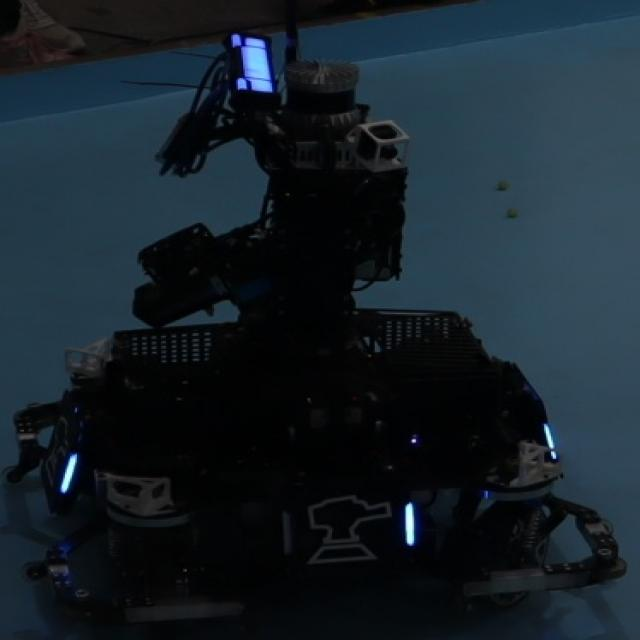Bs: (277, 491, 418, 578), (38, 412, 80, 502)
